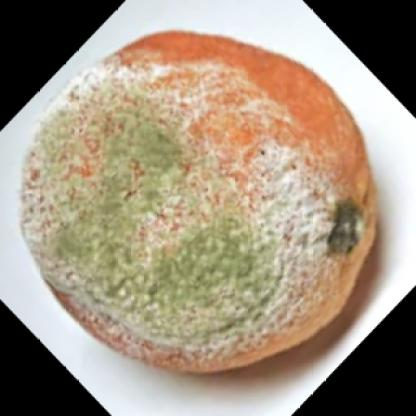rotten: (18, 31, 377, 373)
